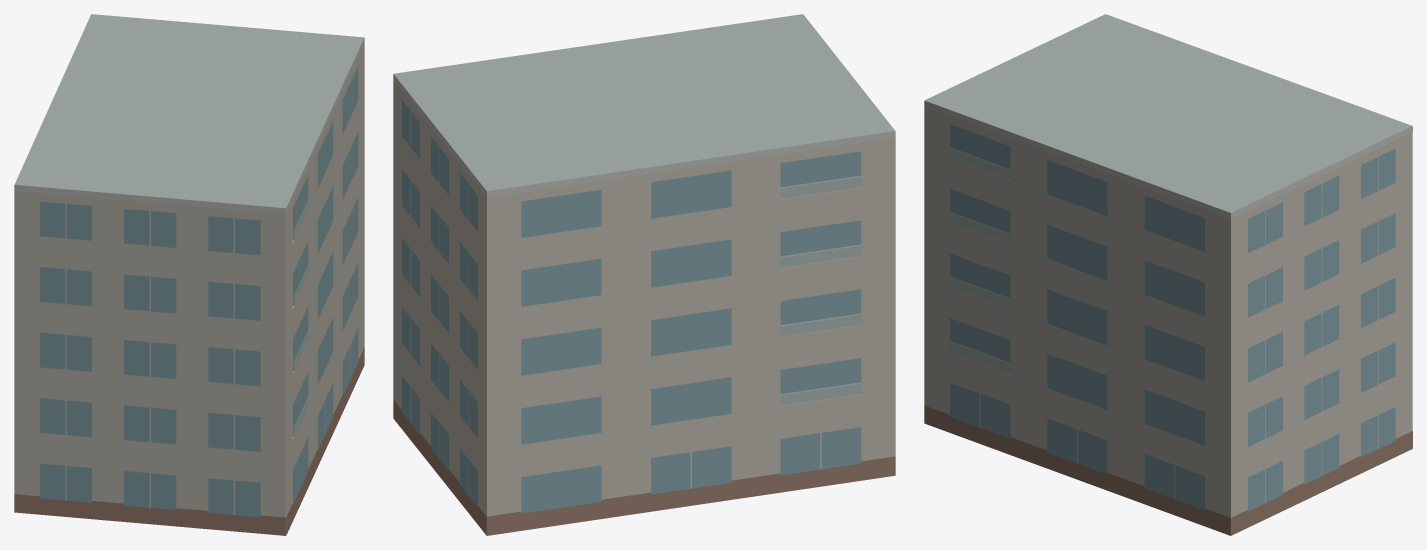
File: survey-upis-32524296.glb
3 renders of one model, left to right at view 1: azimuth 30°, elevation 25°; view 2: azimuth 150°, elevation 25°; view 3: azimuth 270°, elevation 25°, orthographic. The views are drawn at different scales.
Parts seen in each view (by area): view 1: survey-upis-32524296.tmp; view 2: survey-upis-32524296.tmp; view 3: survey-upis-32524296.tmp.
Part boxes in pixels (x1,y1,x2,y2): survey-upis-32524296.tmp: (14, 14, 364, 535); survey-upis-32524296.tmp: (393, 14, 895, 535); survey-upis-32524296.tmp: (924, 14, 1412, 535).
Bounding box in the file's own units: 17.13 × 12.96 × 17.78.
